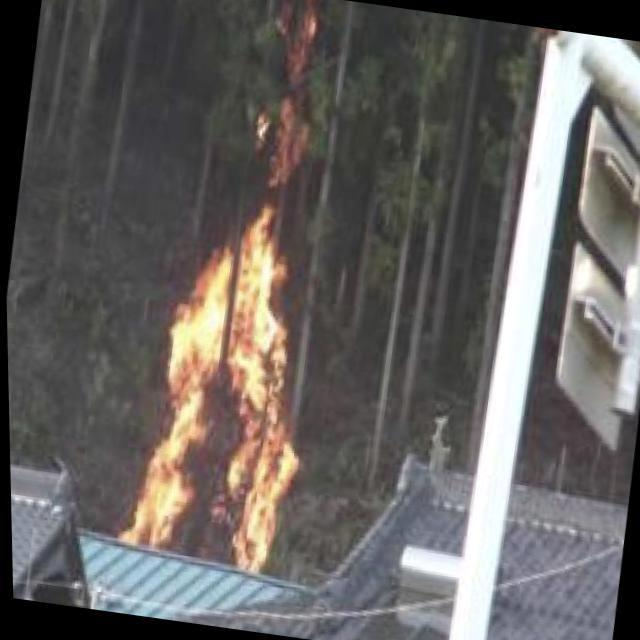fire: (115, 192, 338, 578)
